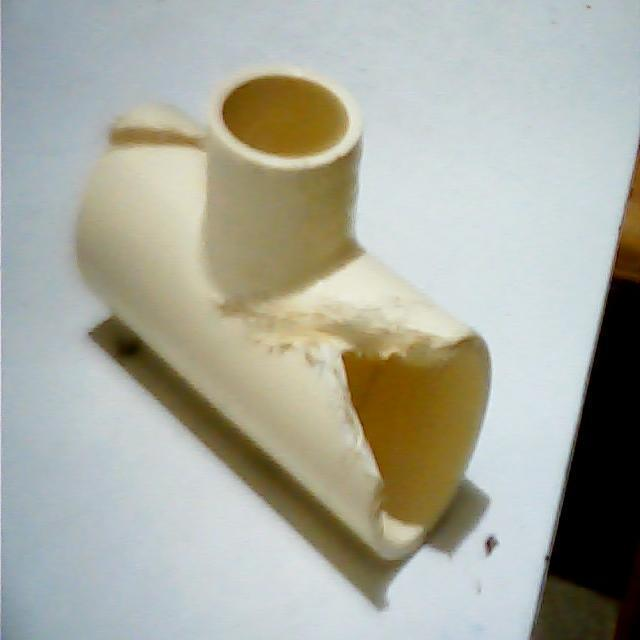Defective: (277, 290, 445, 484), (108, 118, 186, 182)
T Joint: (72, 64, 491, 563)
